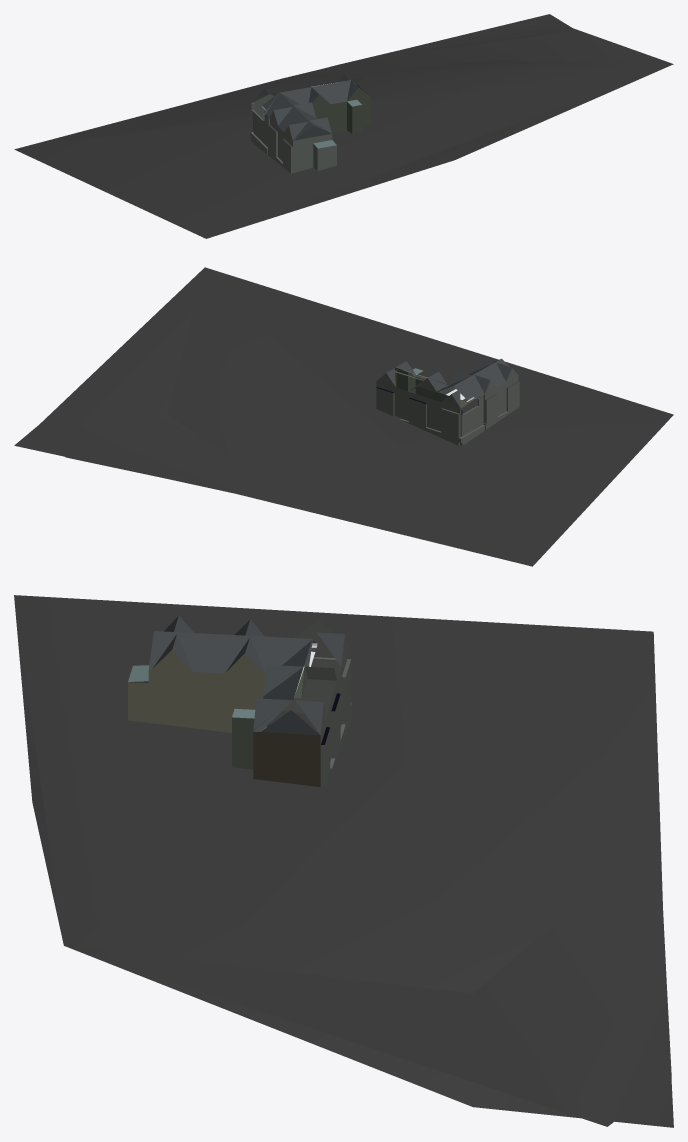
Rendered from riverset-apartment-complex-bld-1.glb.
The picture shows the model from 3 angles, top to bottom: view 1: azimuth 30°, elevation 25°; view 2: azimuth 150°, elevation 25°; view 3: azimuth 270°, elevation 25°; orthographic projection. The views are drawn at different scales.
Visible parts, largest first — view 1: LOD0; view 2: LOD0; view 3: LOD0.
Boxes of the visible parts, bbox=[...] form: LOD0: bbox=[14, 14, 673, 238]; LOD0: bbox=[14, 267, 673, 566]; LOD0: bbox=[14, 595, 673, 1127].
Size of what is drawn, in the model's own units: 196 by 28.27 by 110.
Materials: 2 (2 with a texture image).
